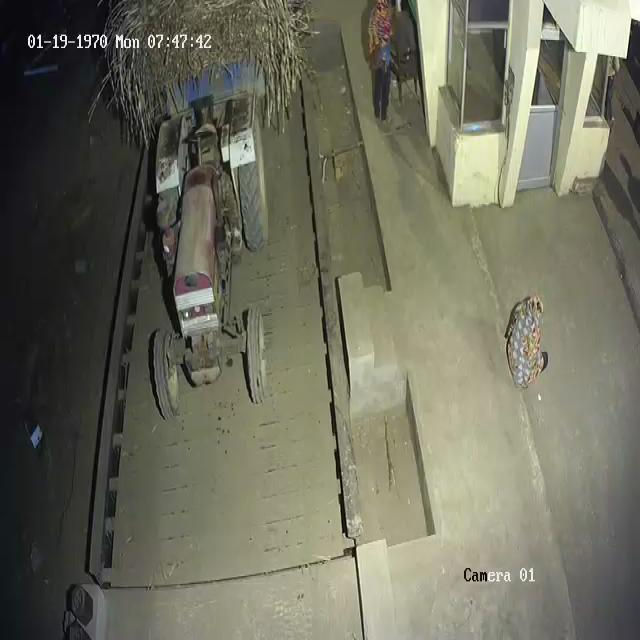Tratores - v5 YOLO V8L 2024-11-13: (141, 99, 270, 416)
